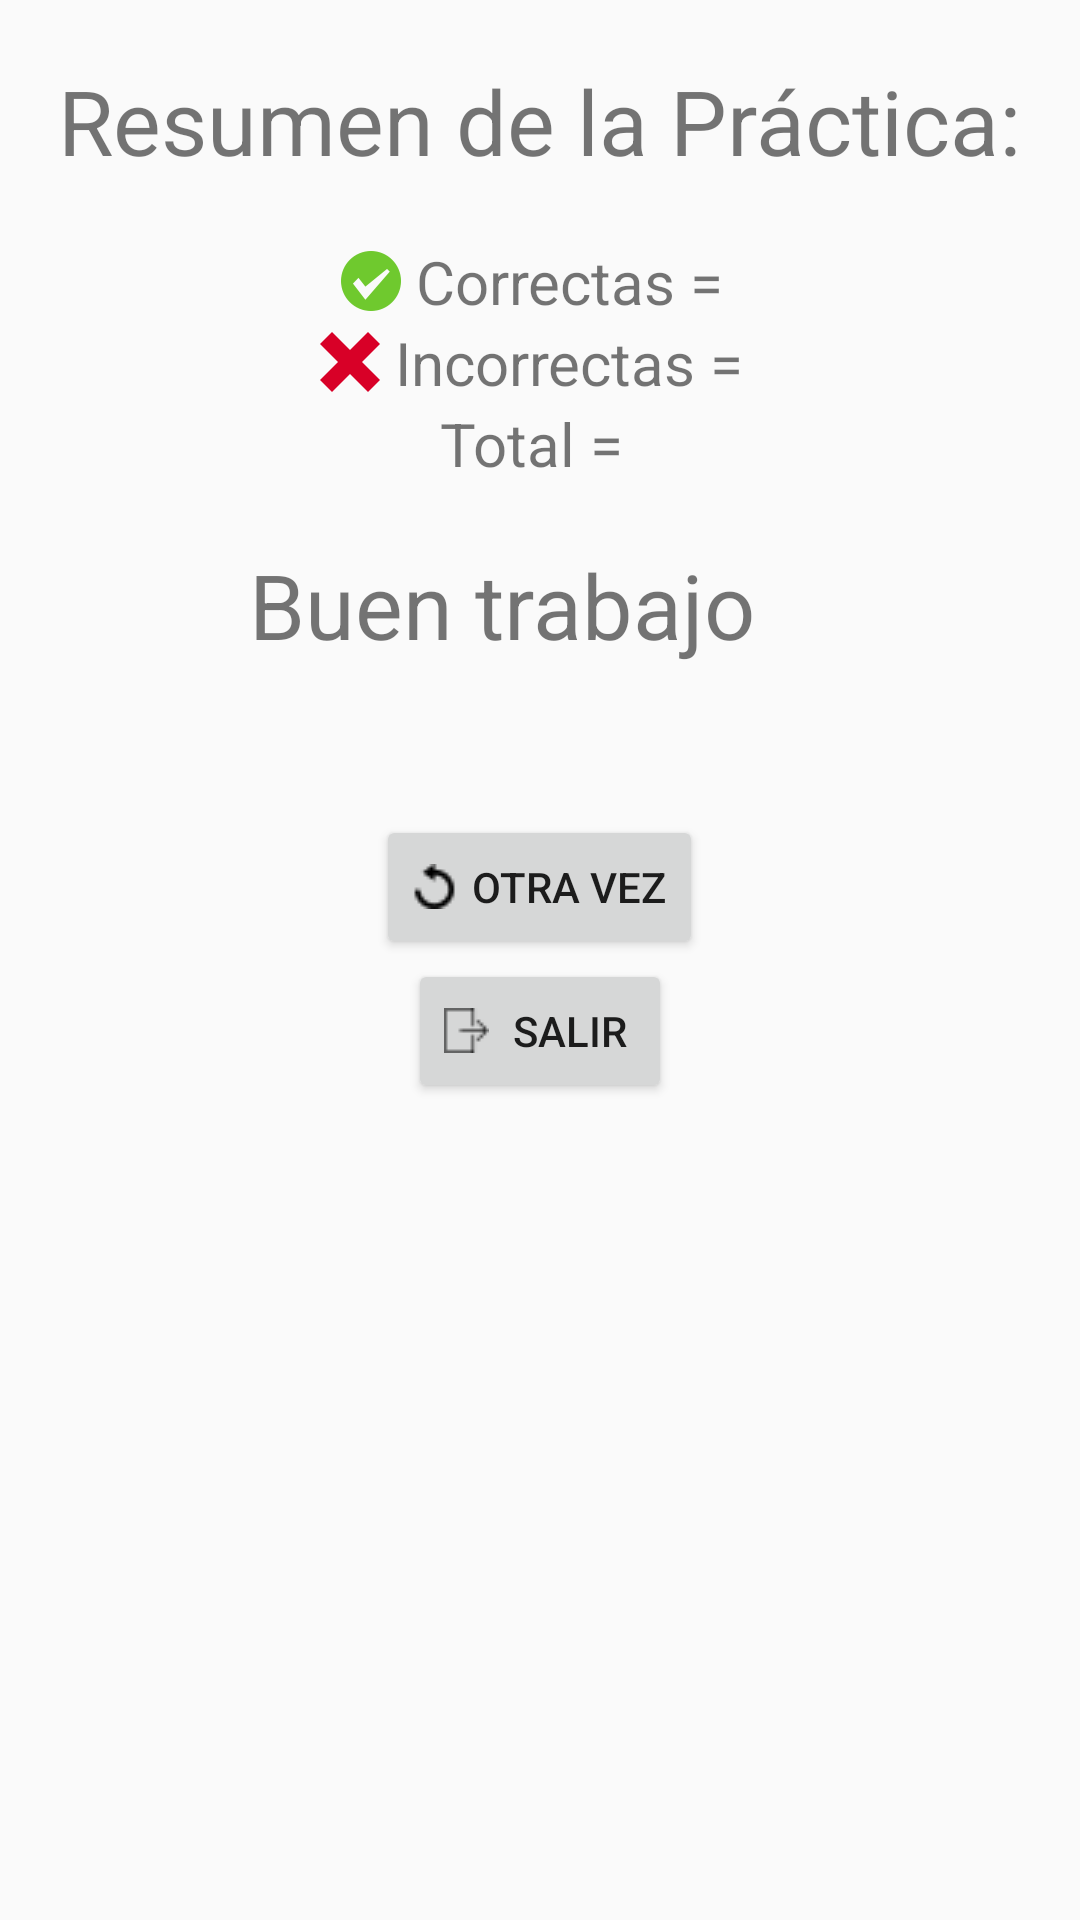

Point at icon controls on the screen. Image size 1080 x 1920, points as (x,y).
wrong: (350,362)
